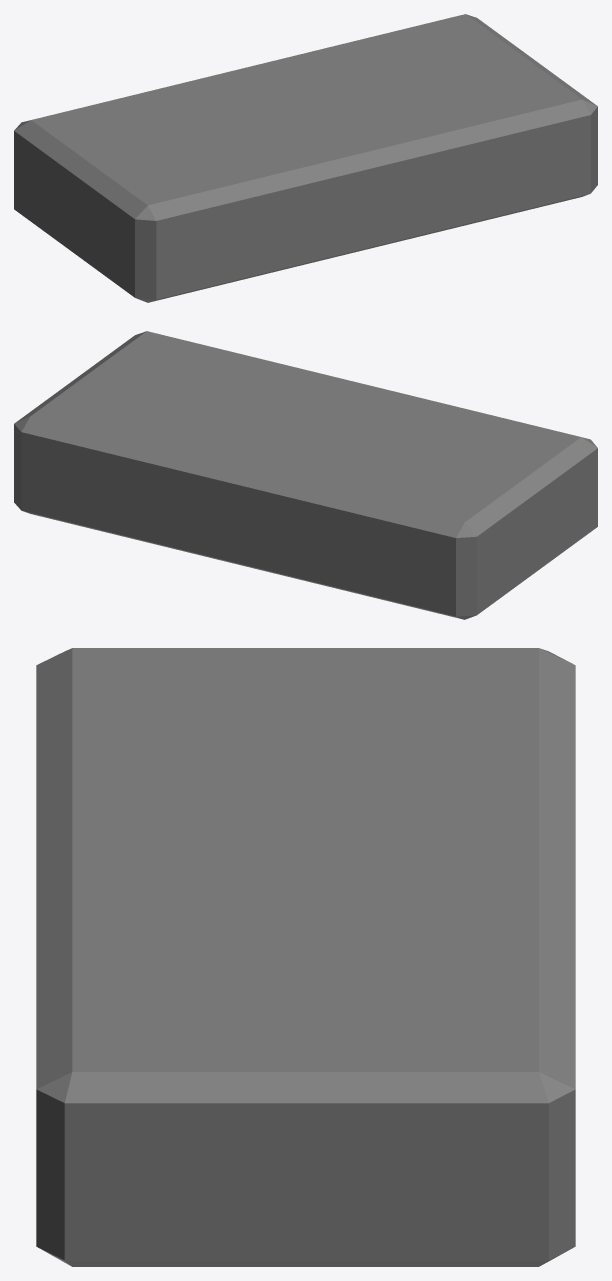
The model's file is lowtorso.obj.
3 views of the same model, one above another, from view 1: azimuth 30°, elevation 25°; view 2: azimuth 150°, elevation 25°; view 3: azimuth 270°, elevation 25° (orthographic). The views are drawn at different scales.
Parts seen in each view (by area): view 1: Rig1; view 2: Rig1; view 3: Rig1.
Boxes of the visible parts, bbox=[...] form: Rig1: bbox=[14, 14, 597, 302]; Rig1: bbox=[14, 331, 597, 619]; Rig1: bbox=[36, 648, 575, 1266].
Bounding box in the file's own units: 1.99 × 0.4007 × 1.
1 material, 1 textured.
